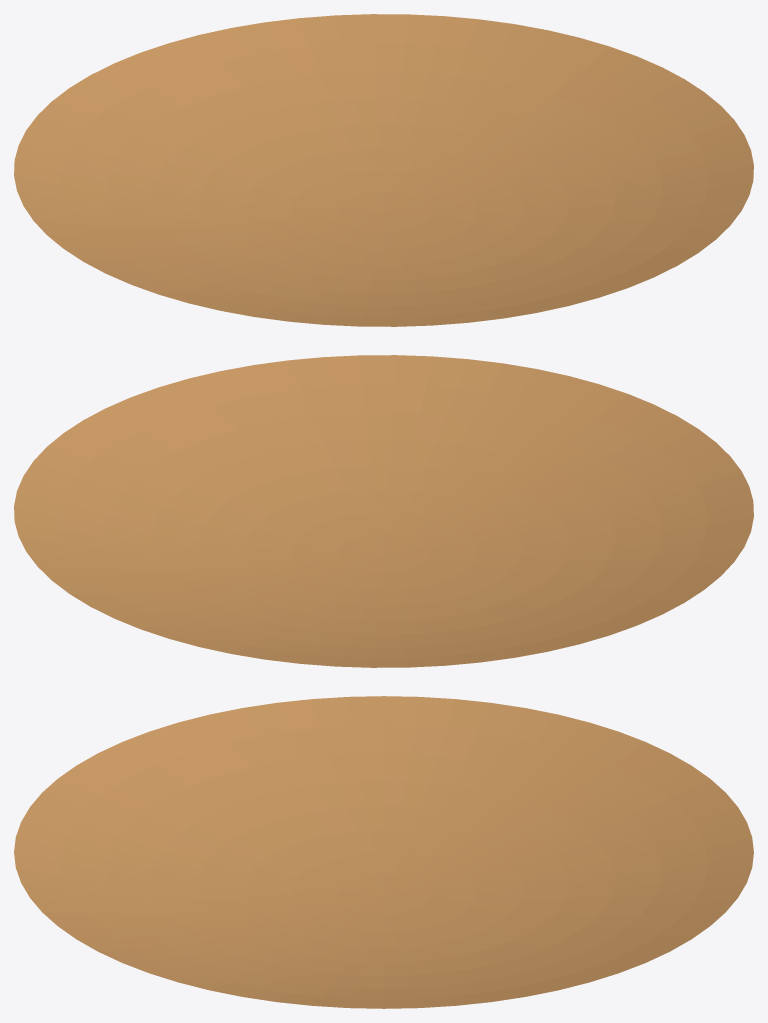
The model's file is anisotropic-disc.glb.
The picture shows the model from 3 angles, top to bottom: view 1: azimuth 30°, elevation 25°; view 2: azimuth 150°, elevation 25°; view 3: azimuth 270°, elevation 25°; orthographic projection.
Parts seen in each view (by area): view 1: LMW_Disc; view 2: LMW_Disc; view 3: LMW_Disc.
Part boxes in pixels (bbox=[...]): LMW_Disc: bbox=[14, 14, 753, 326]; LMW_Disc: bbox=[14, 355, 753, 667]; LMW_Disc: bbox=[14, 696, 753, 1008].
Size of the model in its own units: 6.6 by 0.42 by 6.6.
